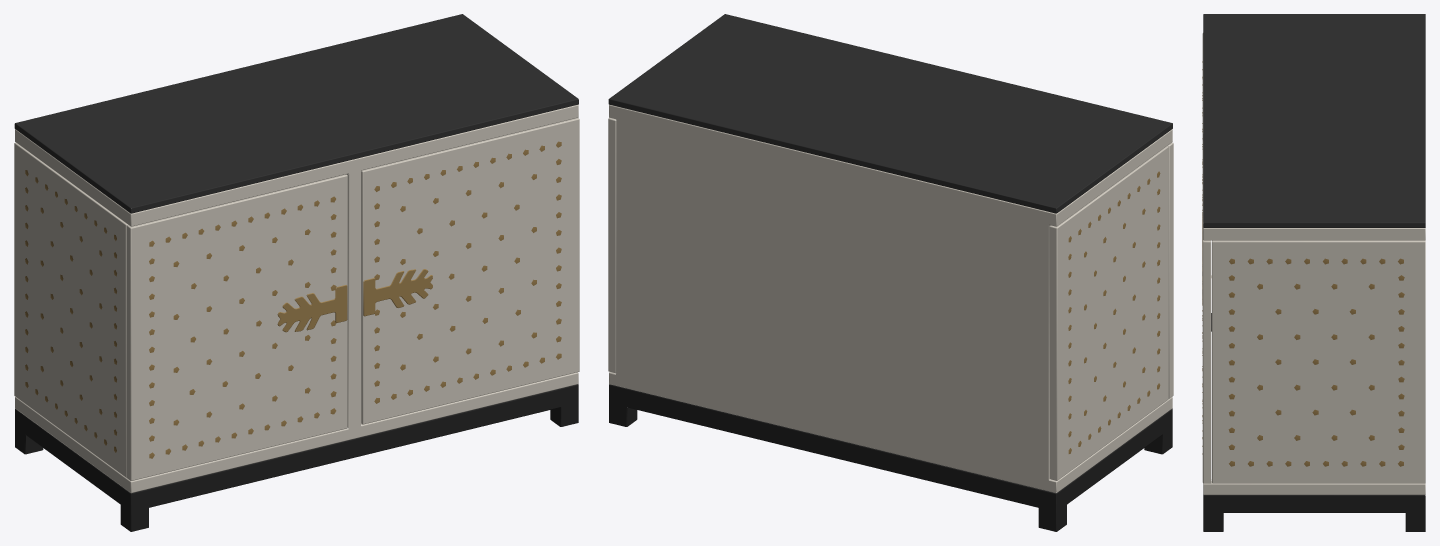
3 views of the same model, side by side, from view 1: azimuth 30°, elevation 25°; view 2: azimuth 150°, elevation 25°; view 3: azimuth 270°, elevation 25° (orthographic). The views are drawn at different scales.
Bounding box in the file's own units: 1.22 × 0.8394 × 0.55.
